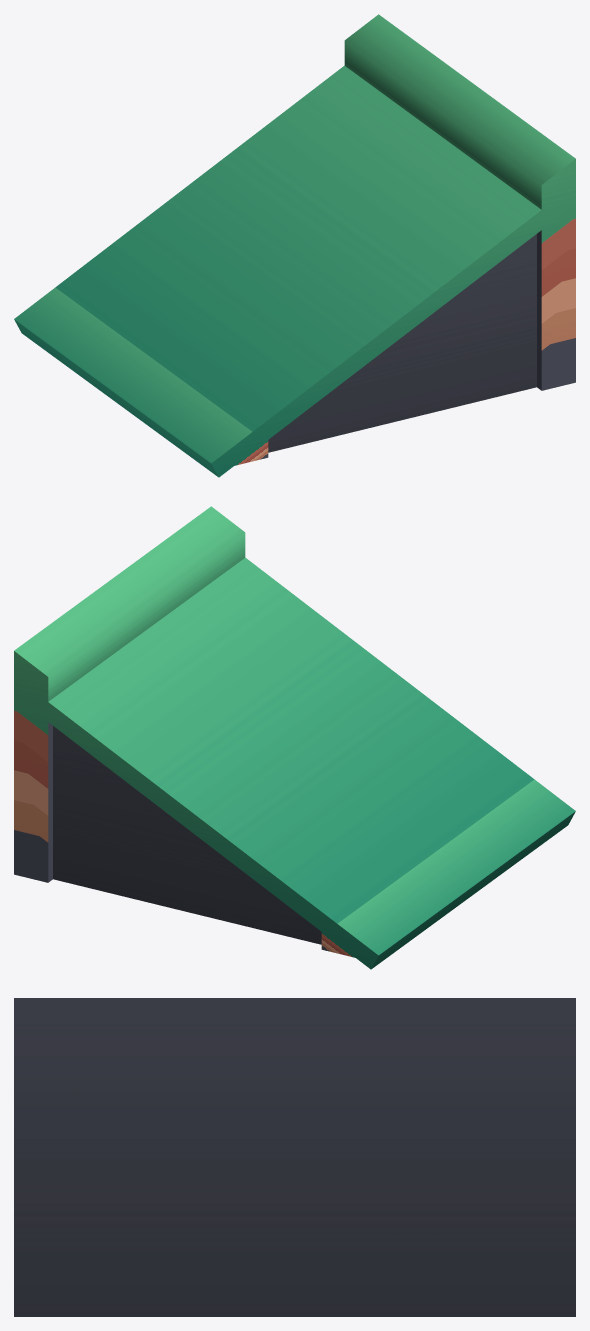
File: roof.glb
3 views of the same model, one above another, from view 1: azimuth 30°, elevation 25°; view 2: azimuth 150°, elevation 25°; view 3: azimuth 270°, elevation 25° (orthographic). The views are drawn at different scales.
Parts seen in each view (by area): view 1: roof; view 2: roof; view 3: roof.
Boxes of the visible parts, x1,y1,x2,y2 form: roof: (14,14,575,477); roof: (14,506,575,969); roof: (14,998,575,1316).
Bounding box in the file's own units: 1.07 × 0.6483 × 1.
Materials: 1 (1 with a texture image).
